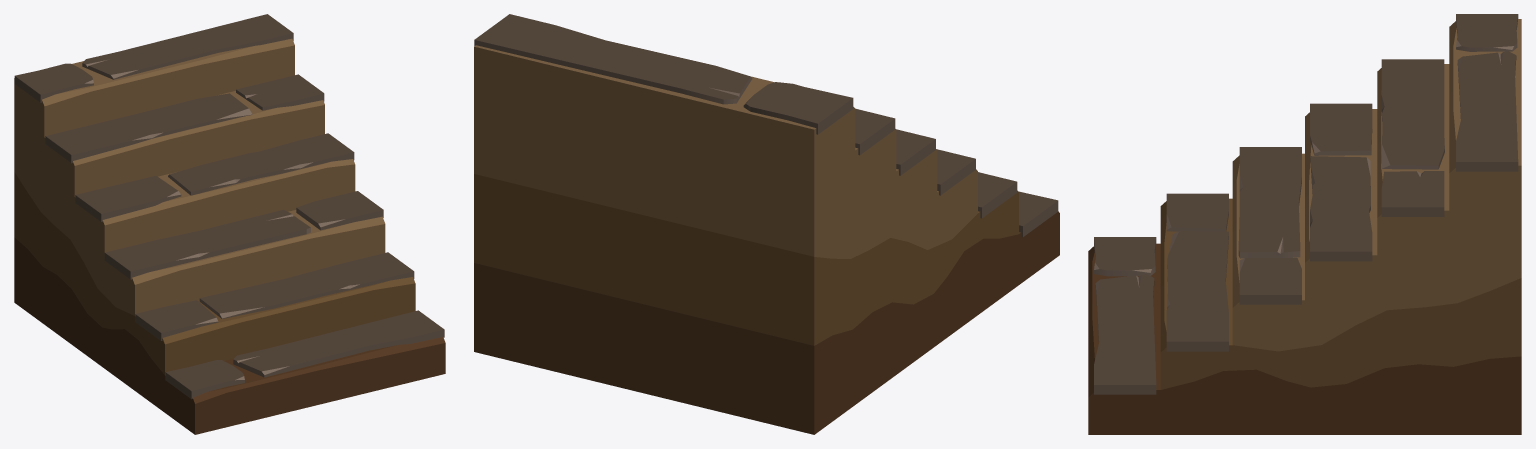
The model's file is BG_stairs_Trench.fbx.
The picture shows the model from 3 angles, left to right: view 1: azimuth 30°, elevation 25°; view 2: azimuth 150°, elevation 25°; view 3: azimuth 270°, elevation 25°; orthographic projection. The views are drawn at different scales.
Visible parts, largest first — view 1: BG_stairs_Trench; view 2: BG_stairs_Trench; view 3: BG_stairs_Trench.
Boxes of the visible parts, bbox=[...] form: BG_stairs_Trench: bbox=[14, 14, 445, 434]; BG_stairs_Trench: bbox=[474, 14, 1059, 434]; BG_stairs_Trench: bbox=[1088, 14, 1521, 434].
Bounding box in the file's own units: 20.2 × 17.42 × 25.
